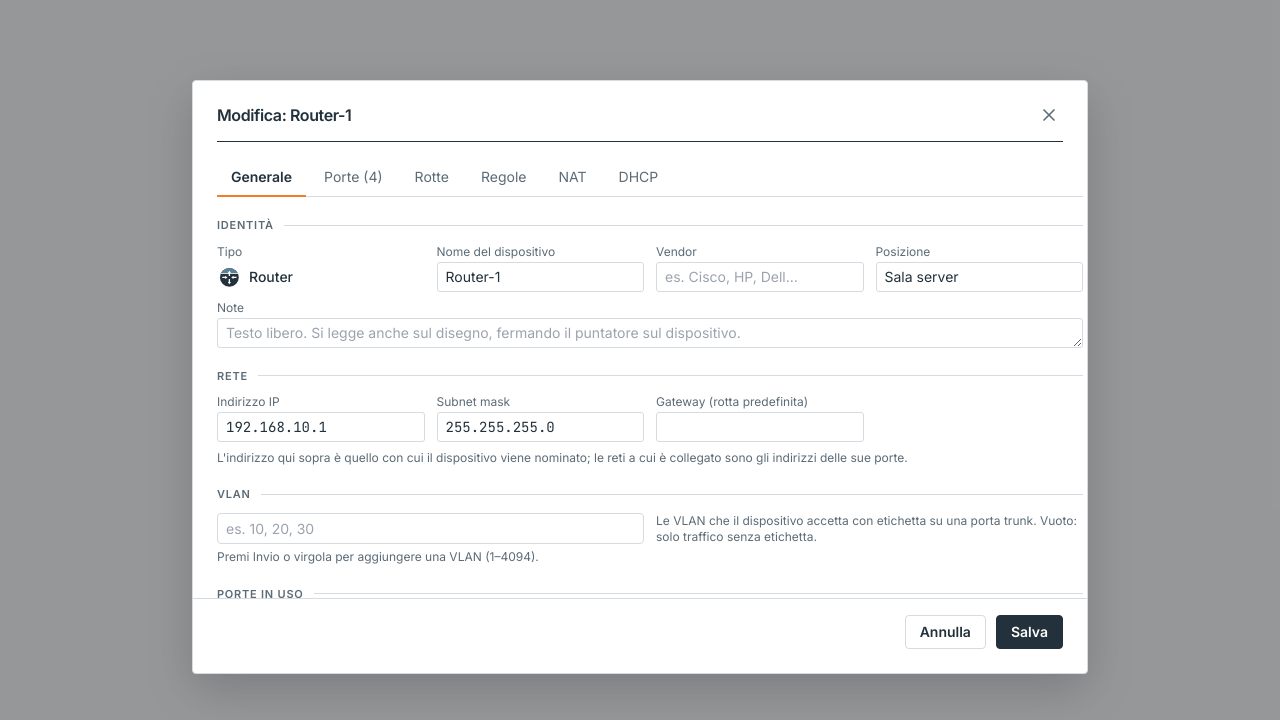
InspectorModal — the first screen of a router or a firewall › follows the form: an address typed on a port is in the list at once
Click the button "Porte (4)".
click(353, 178)  # box [310,158,397,197]
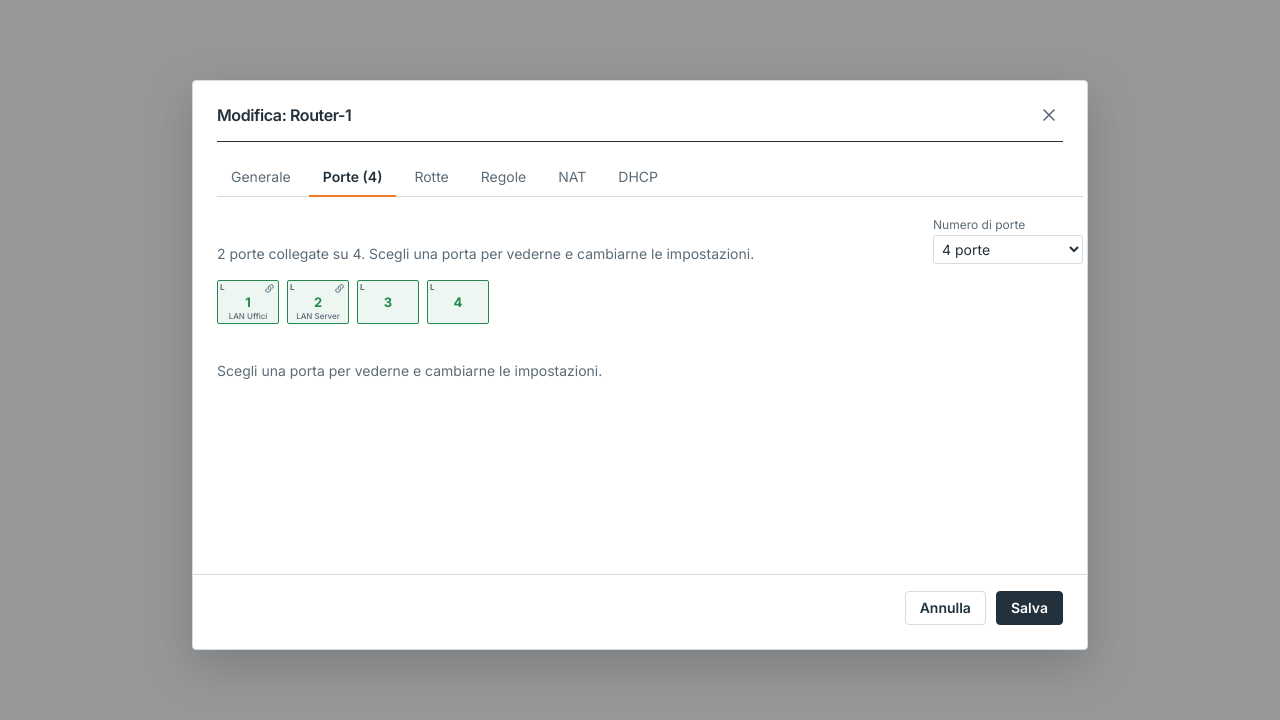
Click the text "3".
click(388, 302)  # box [384,296,392,308]
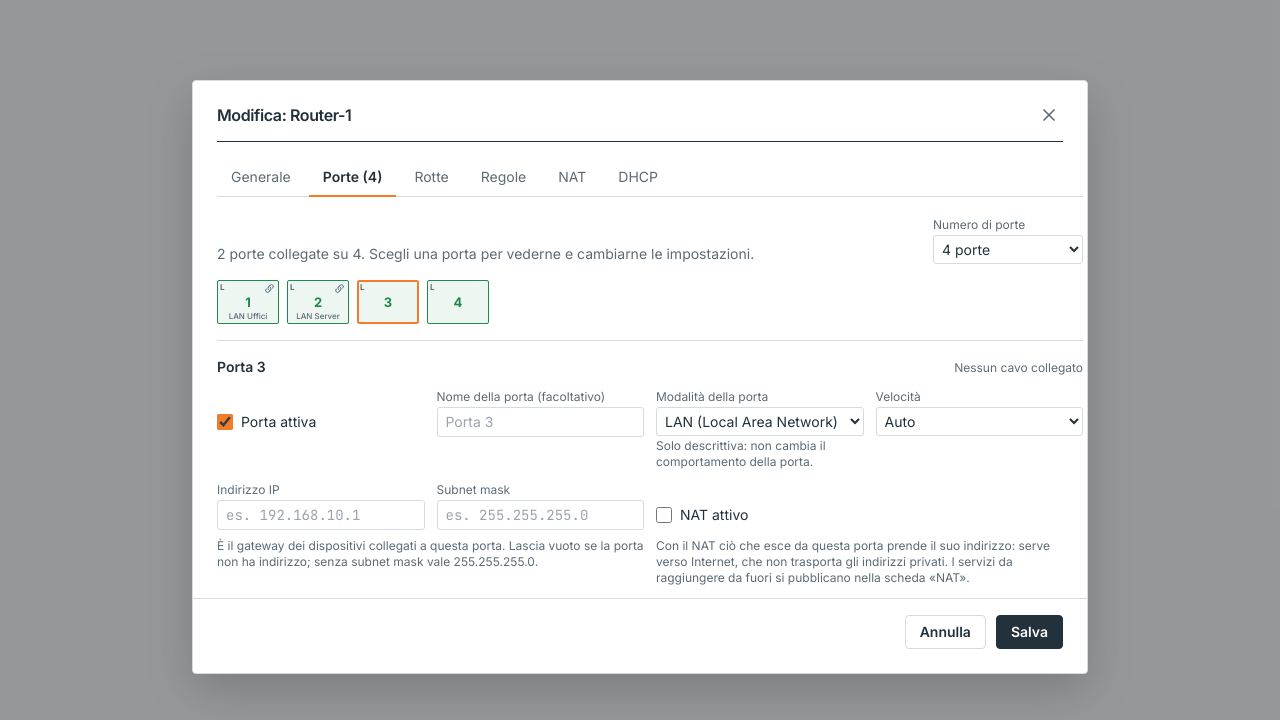
Type "10.0.0.1" into the field labelled "Indirizzo IP".
click(321, 515); type("10.0.0.1")  # box [217,500,424,530]
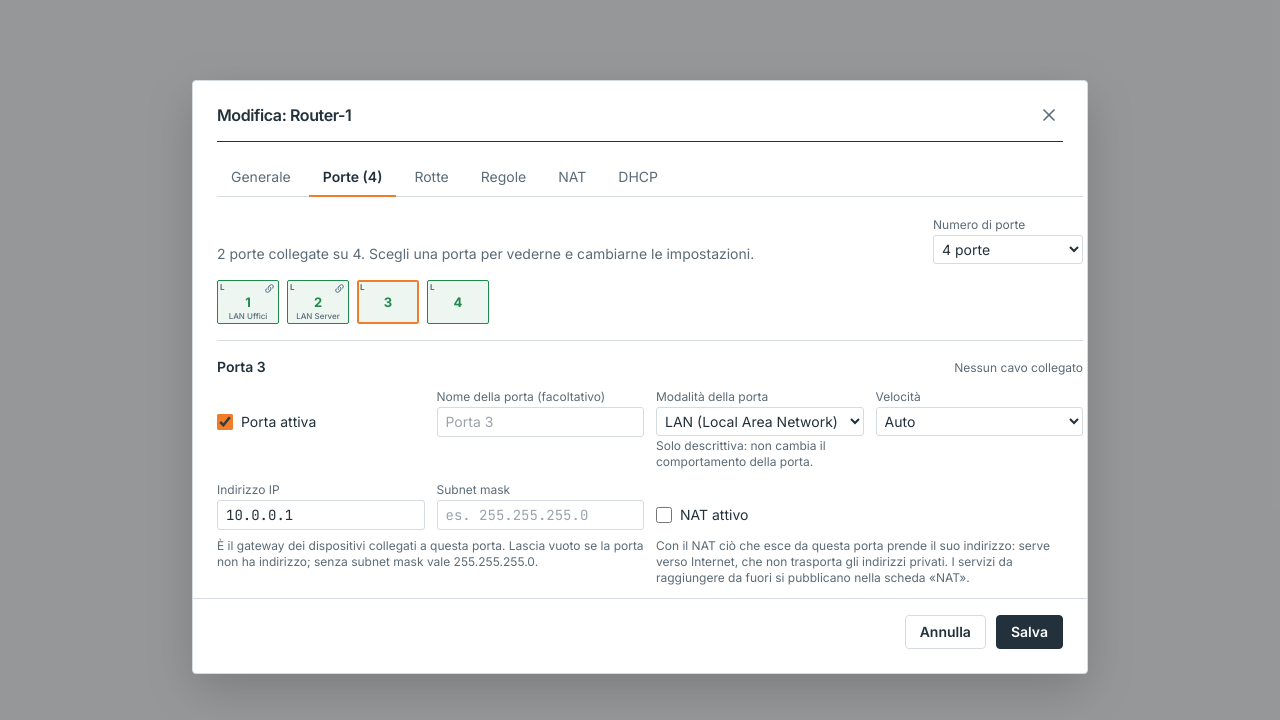
Type "255.255.255.252" into the field labelled "Subnet mask".
click(540, 515); type("255.255.255.252")  # box [436,500,644,530]
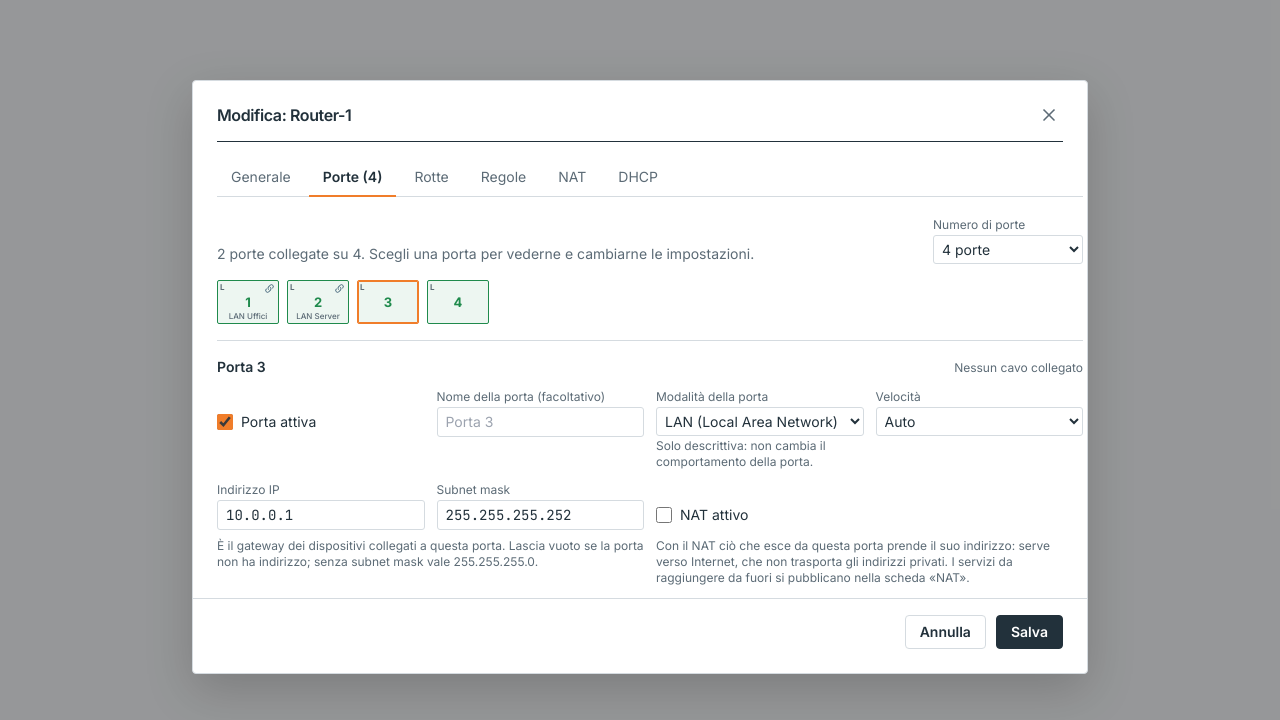
Click the button "Generale".
click(261, 178)  # box [217,158,305,197]
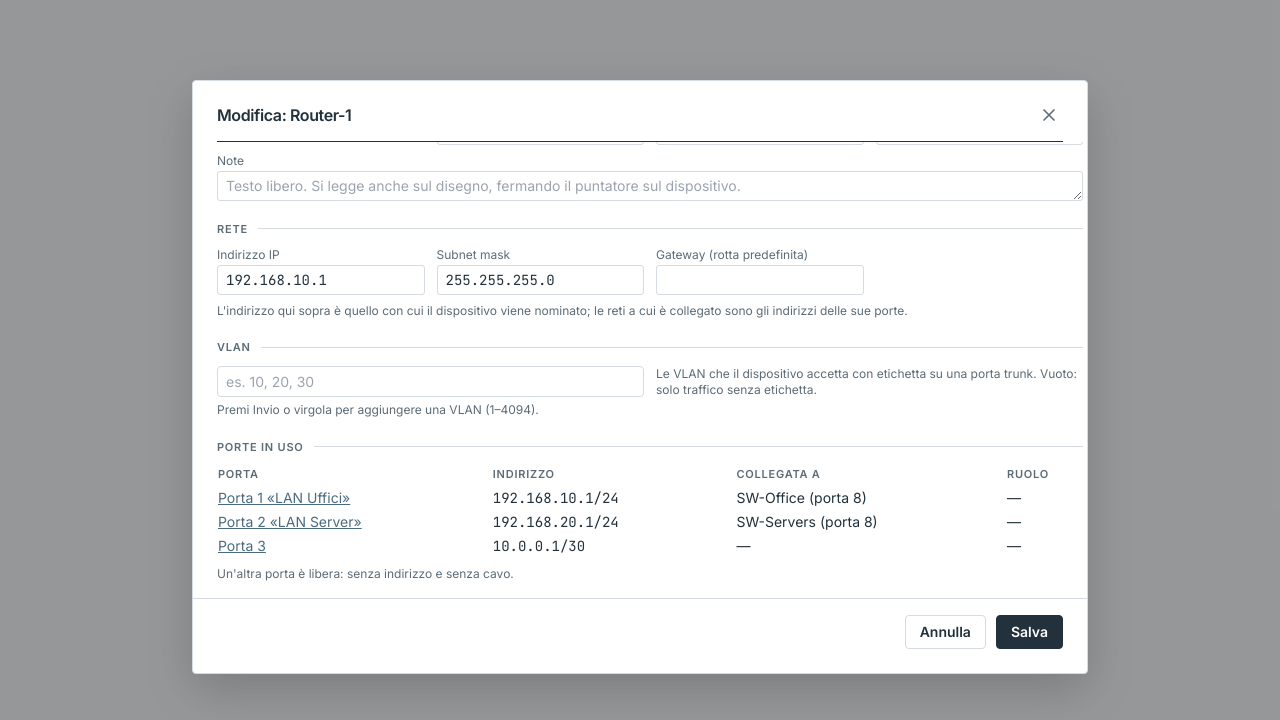
Now the element "Porte in uso" shows "10.0.0.1/30", box [493,537,585,555]
